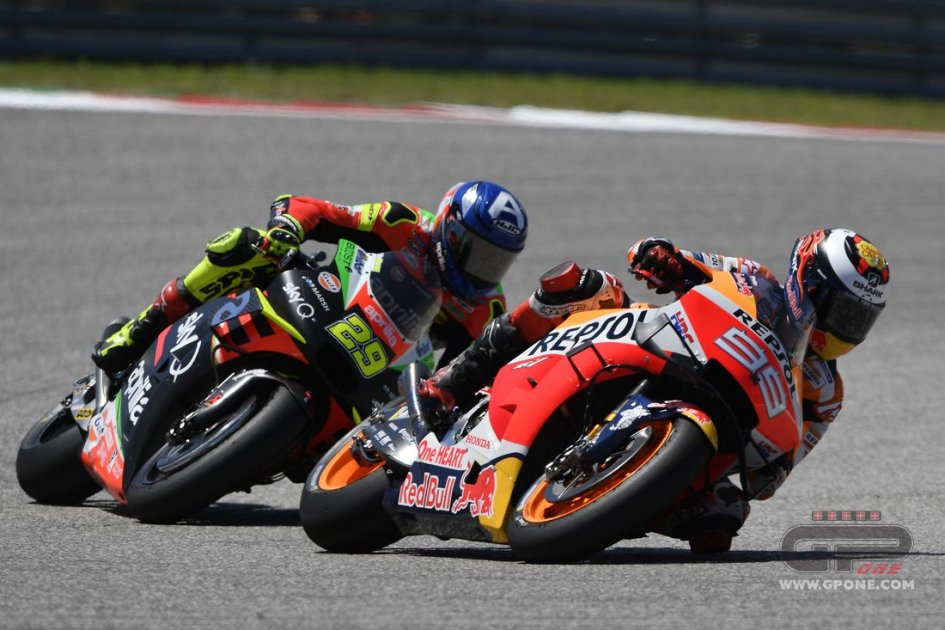helmet: (780, 210, 897, 371), (433, 171, 530, 308)
